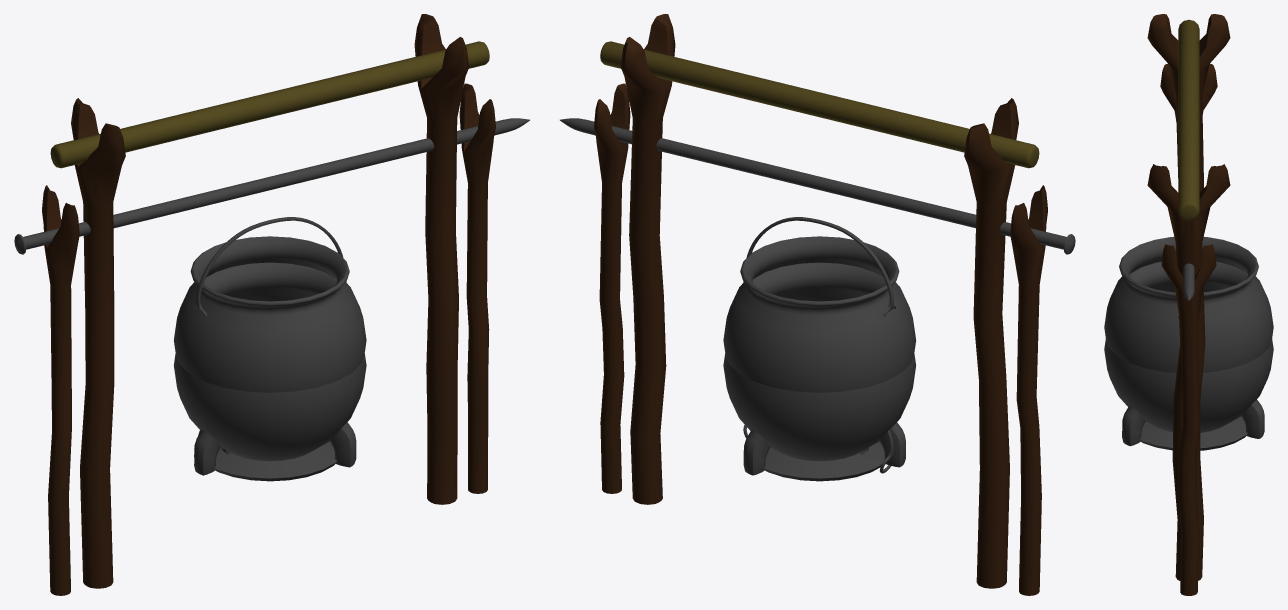
Rendered from Cauldrons.fbx.
3 views of the same model, side by side, from view 1: azimuth 30°, elevation 25°; view 2: azimuth 150°, elevation 25°; view 3: azimuth 270°, elevation 25° (orthographic). The views are drawn at different scales.
Visible parts, largest first — view 1: CauldronHolder, Spitroast, Cauldron02A, Cauldron01A, Cauldron03A, CaukdronLid02, Cauldron04A, CaukdronLid01; view 2: CauldronHolder, Spitroast, Cauldron02A, Cauldron01A, Cauldron03A, CaukdronLid02, Cauldron04A, CaukdronLid01; view 3: Cauldron02A, CauldronHolder, Spitroast, Cauldron01A, Cauldron03A, CaukdronLid02, CaukdronLid01.
Boxes of the visible parts, x1=… form: CauldronHolder: x1=50, y1=14, x2=489, y2=588; Spitroast: x1=14, y1=83, x2=529, y2=595; Cauldron02A: x1=173, y1=236, x2=366, y2=475; Cauldron01A: x1=173, y1=262, x2=366, y2=461; Cauldron03A: x1=204, y1=263, x2=337, y2=301; CaukdronLid02: x1=215, y1=443, x2=336, y2=478; Cauldron04A: x1=194, y1=217, x2=346, y2=316; CaukdronLid01: x1=194, y1=438, x2=336, y2=481; CauldronHolder: x1=600, y1=14, x2=1039, y2=588; Spitroast: x1=560, y1=83, x2=1075, y2=595; Cauldron02A: x1=723, y1=236, x2=916, y2=475; Cauldron01A: x1=723, y1=262, x2=916, y2=461; Cauldron03A: x1=752, y1=263, x2=885, y2=301; CaukdronLid02: x1=765, y1=444, x2=883, y2=478; Cauldron04A: x1=743, y1=217, x2=895, y2=316; CaukdronLid01: x1=744, y1=438, x2=884, y2=481; Cauldron02A: x1=1104, y1=236, x2=1273, y2=446; CauldronHolder: x1=1147, y1=14, x2=1230, y2=580; Spitroast: x1=1160, y1=64, x2=1217, y2=595; Cauldron01A: x1=1104, y1=261, x2=1273, y2=432; Cauldron03A: x1=1130, y1=262, x2=1247, y2=292; CaukdronLid02: x1=1140, y1=416, x2=1247, y2=450; CaukdronLid01: x1=1122, y1=413, x2=1247, y2=450.
Bounding box in the file's own units: 1.86 × 1.63 × 0.6048.
